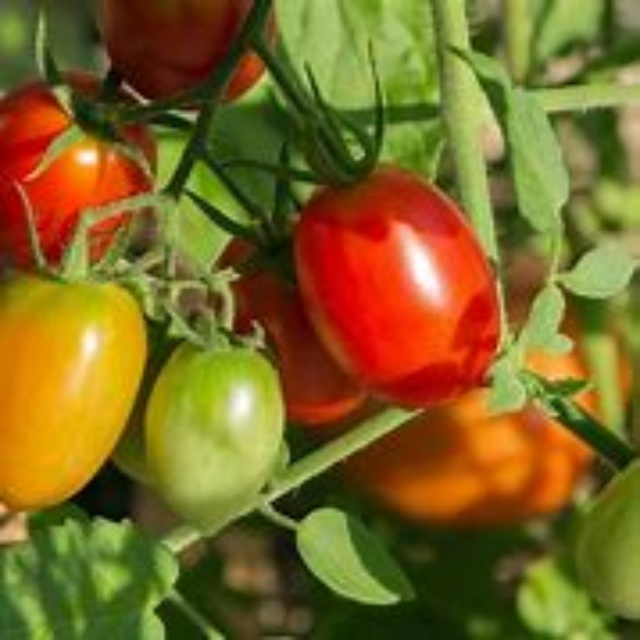tomato: (295, 173, 508, 415), (1, 262, 146, 514), (4, 80, 156, 255), (162, 331, 282, 543), (101, 3, 296, 105)
